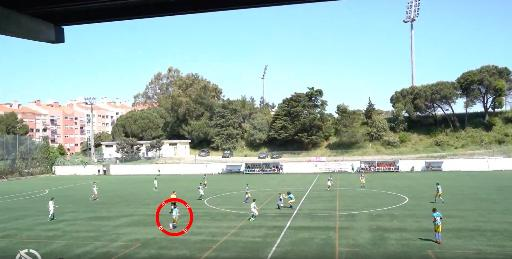highlight_overlay: (155, 198, 196, 237)
